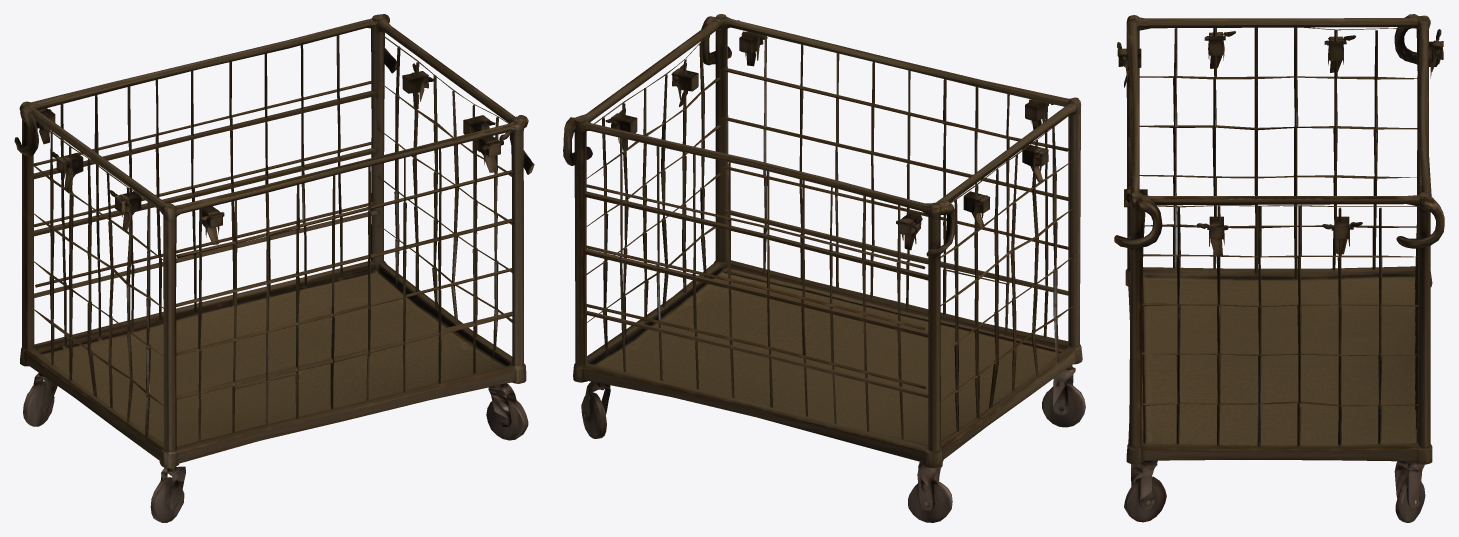
3 renders of one model, left to right at view 1: azimuth 30°, elevation 25°; view 2: azimuth 150°, elevation 25°; view 3: azimuth 270°, elevation 25°, orthographic. The views are drawn at different scales.
Parts seen in each view (by area): view 1: c_c_13_LOD0; view 2: c_c_13_LOD0; view 3: c_c_13_LOD0.
Part boxes in pixels (bbox=[...]): c_c_13_LOD0: bbox=[14, 14, 534, 522]; c_c_13_LOD0: bbox=[563, 14, 1085, 522]; c_c_13_LOD0: bbox=[1114, 14, 1444, 522].
Size of what is drawn, in the model's own units: 99.8 by 81.45 by 73.63.
Materials: 1 (1 with a texture image).
